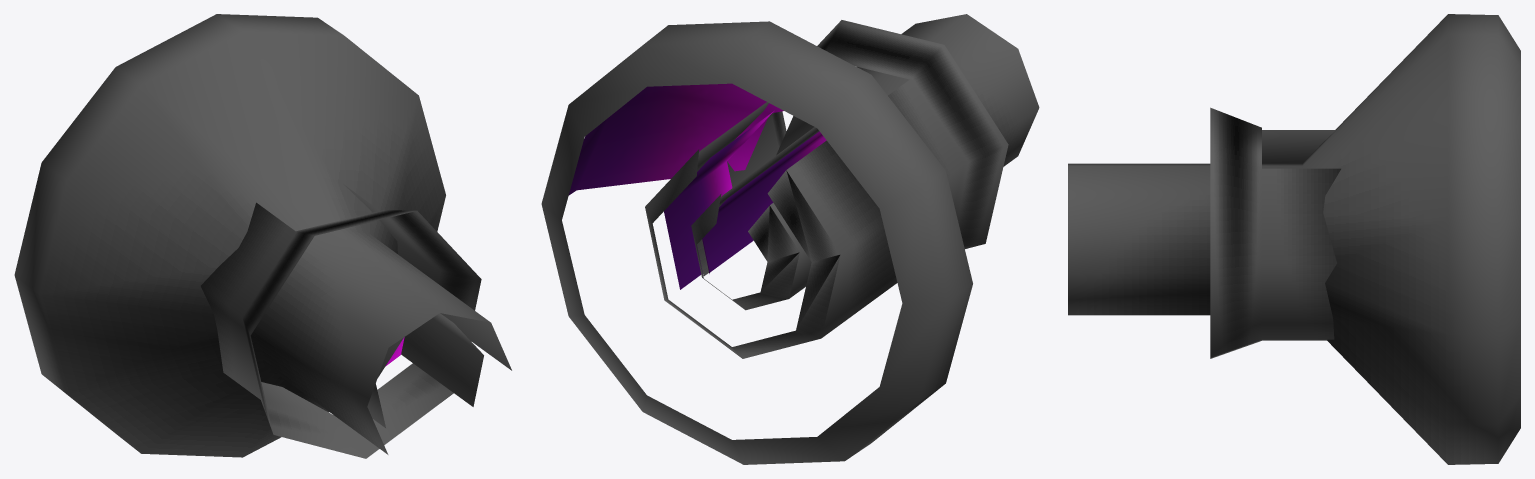
The model's file is beaker_set.glb.
3 renders of one model, left to right at view 1: azimuth 30°, elevation 25°; view 2: azimuth 150°, elevation 25°; view 3: azimuth 270°, elevation 25°, orthographic. The views are drawn at different scales.
Visible parts, largest first — view 1: laboratory.beaker_set-MeshSets[beaker02].Mesh[0], laboratory.beaker_set-MeshSets[beaker01].Mesh[0], laboratory.beaker_set-MeshSets[beaker03].Mesh[0]; view 2: laboratory.beaker_set-MeshSets[beaker02].Mesh[0], laboratory.beaker_set-MeshSets[beaker01].Mesh[0], laboratory.beaker_set-MeshSets[beaker02].Mesh[1], laboratory.beaker_set-MeshSets[beaker03].Mesh[0], laboratory.beaker_set-MeshSets[beaker01].Mesh[1], laboratory.beaker_set-MeshSets[beaker03].Mesh[1]; view 3: laboratory.beaker_set-MeshSets[beaker02].Mesh[0], laboratory.beaker_set-MeshSets[beaker01].Mesh[0].
Part boxes in pixels (x1,y1,x2,y2): laboratory.beaker_set-MeshSets[beaker02].Mesh[0]: (14, 14, 511, 457); laboratory.beaker_set-MeshSets[beaker01].Mesh[0]: (201, 184, 481, 458); laboratory.beaker_set-MeshSets[beaker03].Mesh[0]: (367, 313, 483, 427); laboratory.beaker_set-MeshSets[beaker02].Mesh[0]: (541, 14, 1039, 464); laboratory.beaker_set-MeshSets[beaker01].Mesh[0]: (645, 20, 1008, 358); laboratory.beaker_set-MeshSets[beaker02].Mesh[1]: (568, 83, 783, 195); laboratory.beaker_set-MeshSets[beaker03].Mesh[0]: (691, 127, 819, 310); laboratory.beaker_set-MeshSets[beaker01].Mesh[1]: (664, 111, 773, 289); laboratory.beaker_set-MeshSets[beaker03].Mesh[1]: (702, 131, 826, 273); laboratory.beaker_set-MeshSets[beaker02].Mesh[0]: (1068, 14, 1520, 464); laboratory.beaker_set-MeshSets[beaker01].Mesh[0]: (1210, 107, 1340, 358).
Size of the model in its own units: 0.7 by 0.7 by 0.7.
Materials: 2 (2 with a texture image).
